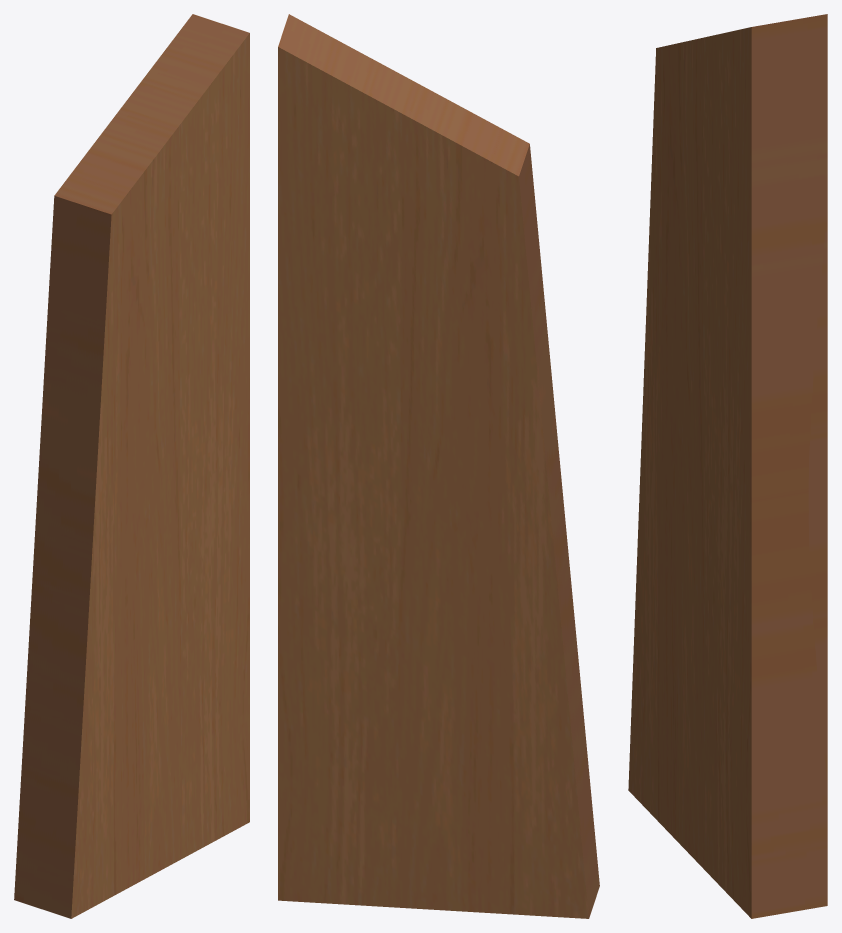
File: Door.fbx
The picture shows the model from 3 angles, left to right: view 1: azimuth 30°, elevation 25°; view 2: azimuth 150°, elevation 25°; view 3: azimuth 270°, elevation 25°; orthographic projection. The views are drawn at different scales.
Visible parts, largest first — view 1: root; view 2: root; view 3: root.
Part boxes in pixels (x1,y1,x2,y2): root: (14,14,249,918); root: (278,14,599,918); root: (628,14,827,918).
Bounding box in the file's own units: 0.1742 × 0.512 × 0.1036.
1 material, 1 textured.
